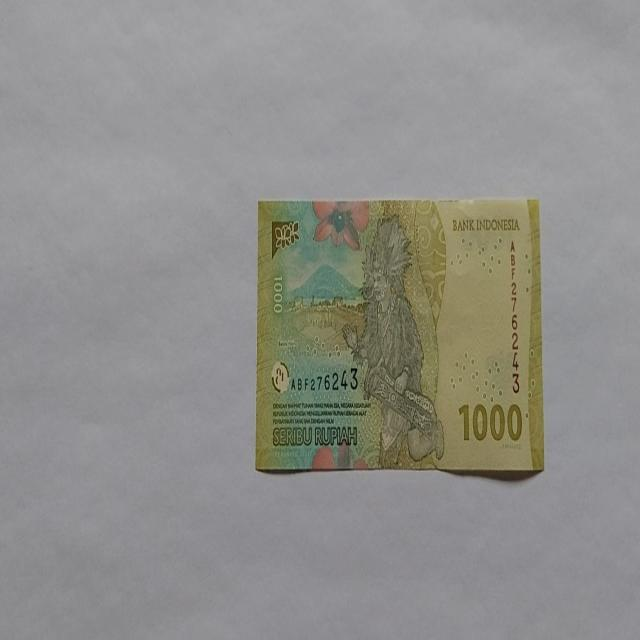seribu rupiah kertas: (255, 196, 544, 474)
